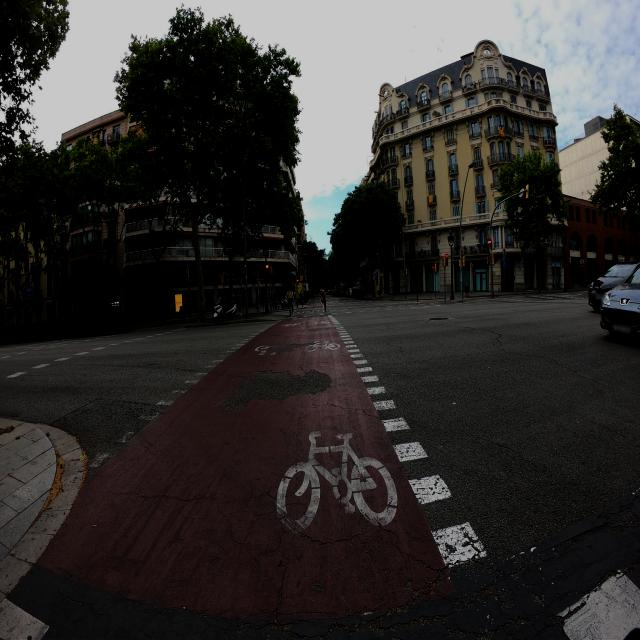bike: (210, 297, 238, 322), (287, 299, 294, 317), (271, 298, 280, 312), (280, 297, 288, 309)
car: (600, 256, 640, 347), (588, 262, 639, 312), (343, 287, 352, 297)
